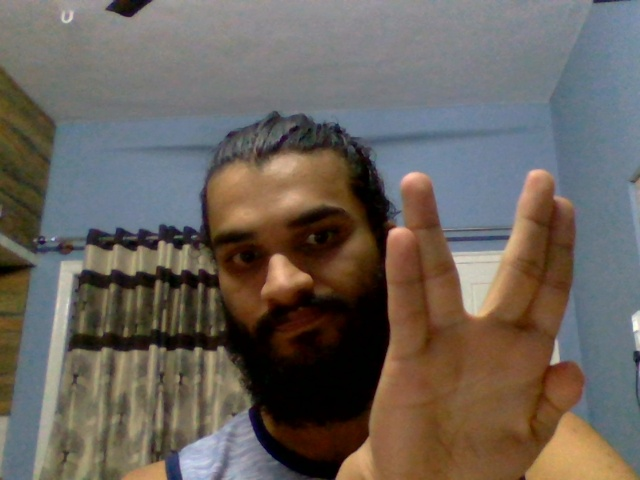LiveLong: (364, 168, 591, 480)
